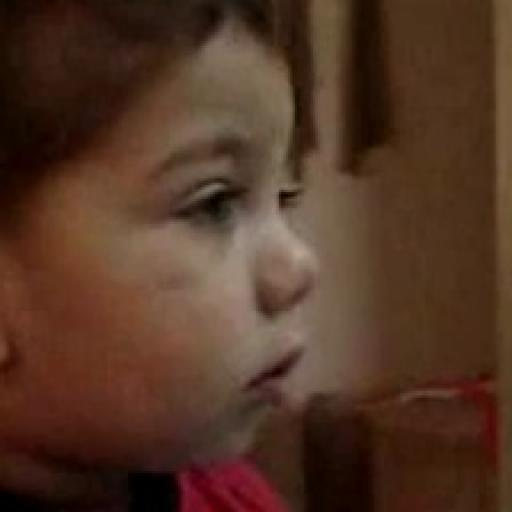Autism: (15, 18, 382, 490)
